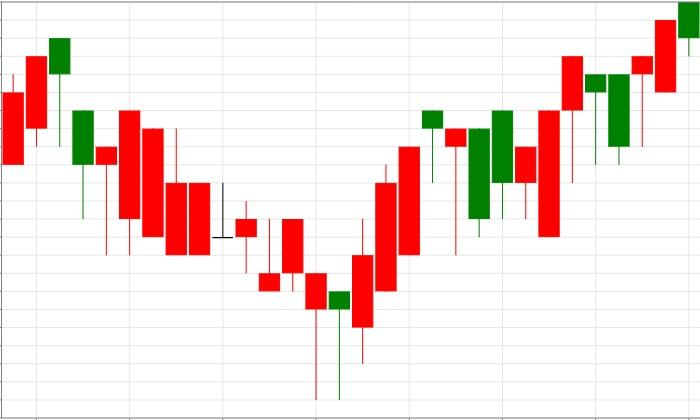hanging_man_fall: (328, 109, 443, 400)
